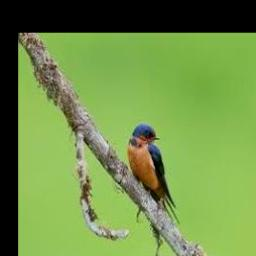Swallow: (127, 124, 179, 227)
